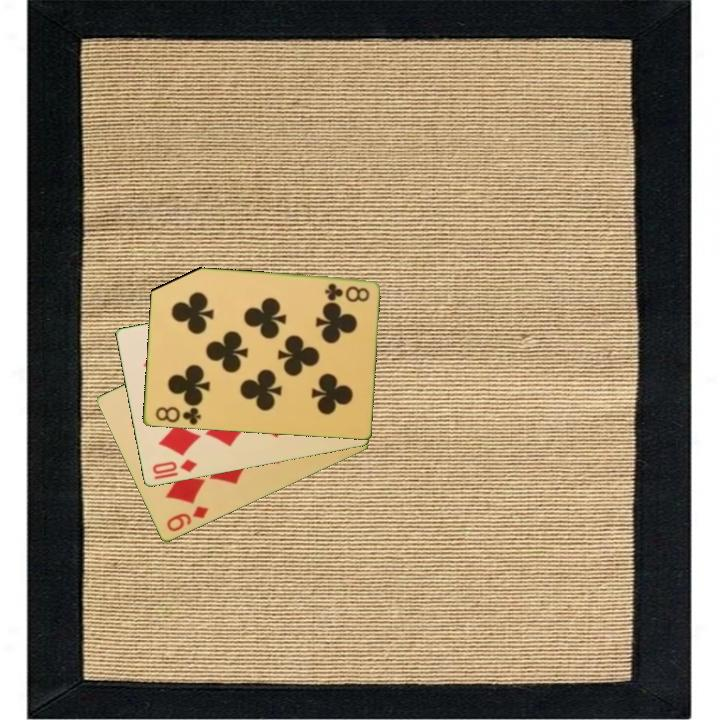10d: (149, 456, 200, 483)
8c: (152, 402, 203, 428), (321, 280, 372, 304)
9d: (163, 503, 212, 535)
